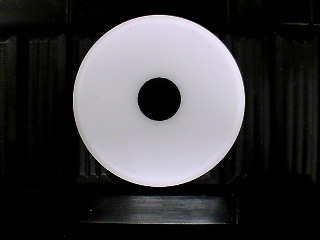BOHO: (73, 15, 245, 188)
